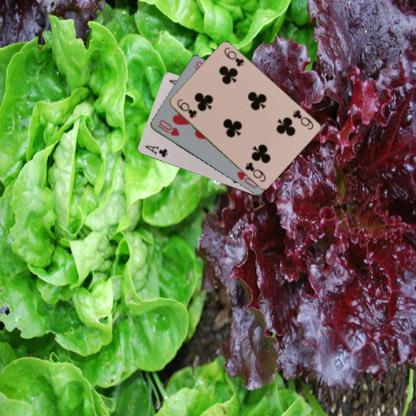10h: (154, 118, 180, 138)
6c: (174, 96, 198, 120), (290, 108, 314, 131)
Ac: (142, 143, 169, 159)
